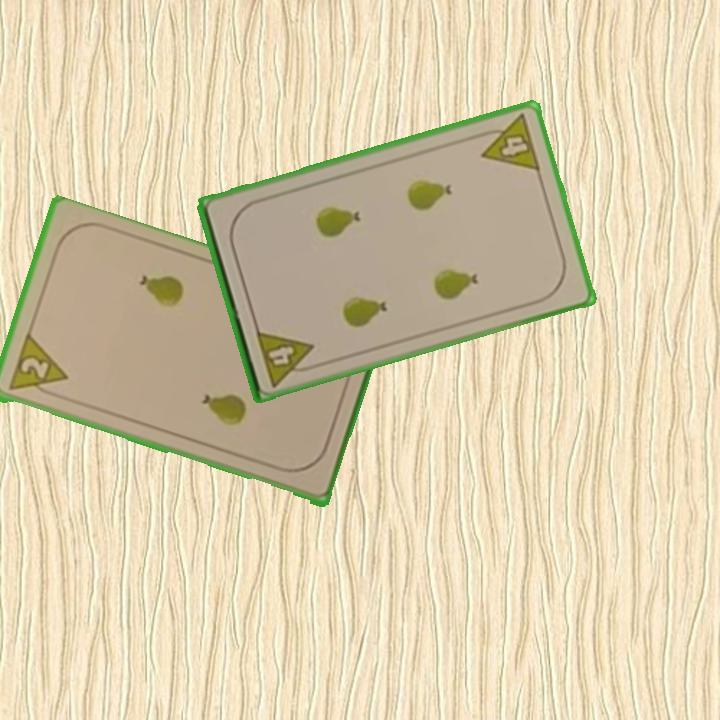2p: (4, 333, 70, 400)
4p: (472, 110, 543, 174), (252, 326, 321, 389)
